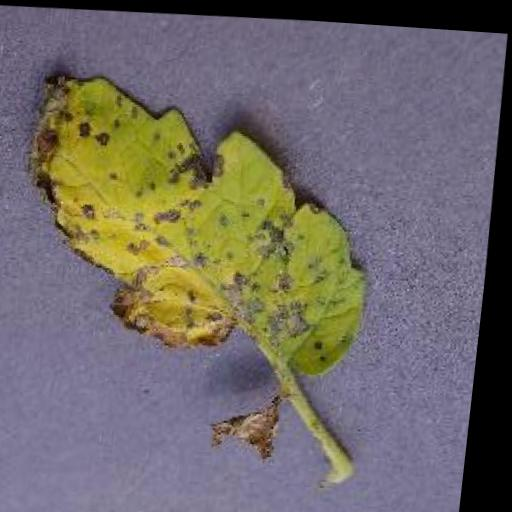Septoria: (12, 62, 390, 383)
